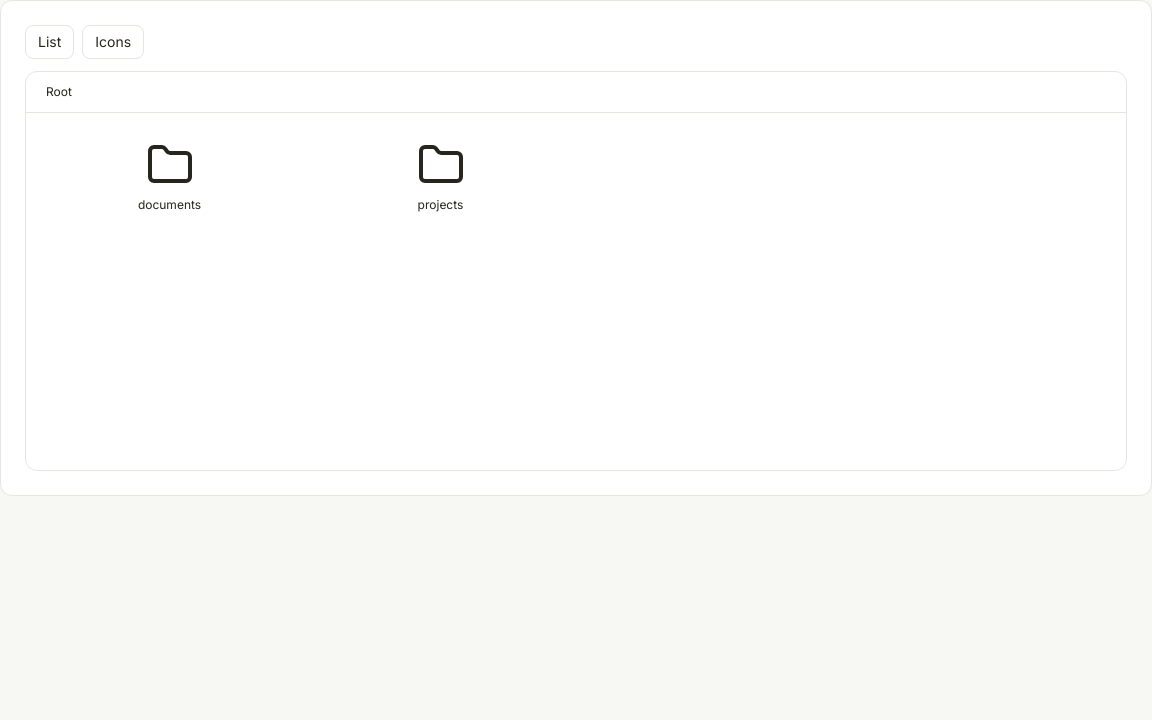
Test: ComponentDemo integration › renders file-system live demo with drill-down folders
Expected: the button "Icons" is shown, [82,25,144,59]
Expected: the button "List" is shown, [25,25,74,59]
Click the text "documents". click: (170, 204)
box: [138,197,201,212]
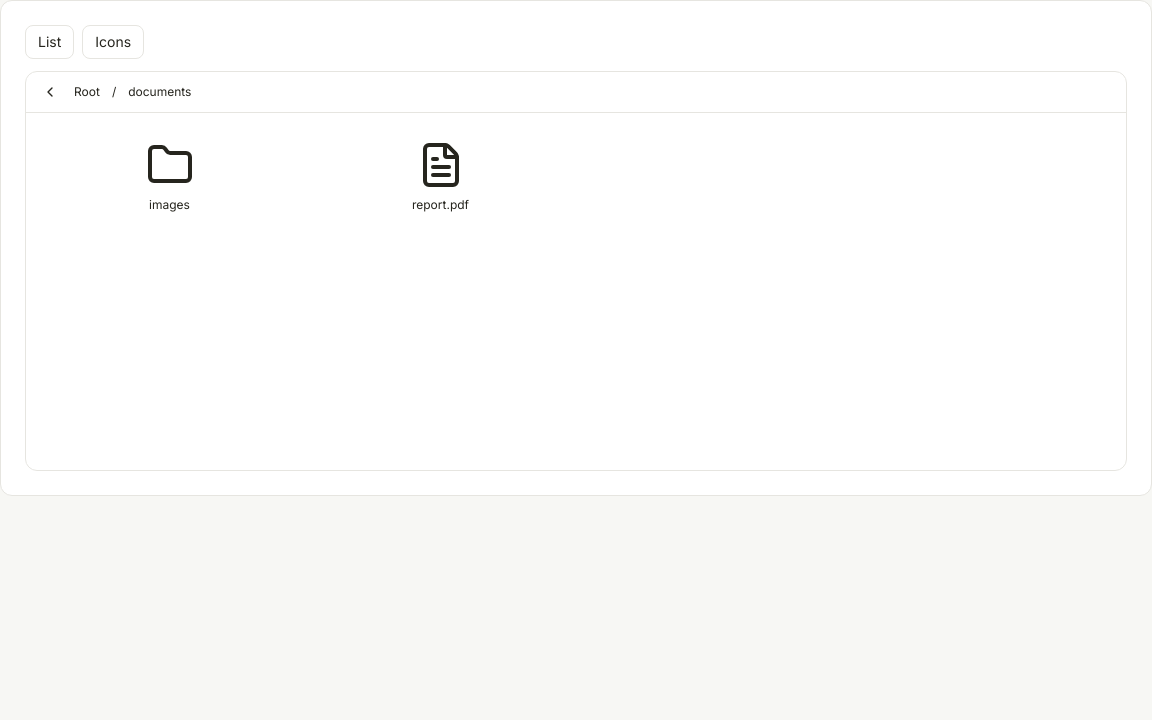
Now the text "images" is shown, box [149,197,190,212]
Now the text "report.pdf" is shown, box [412,197,469,212]
